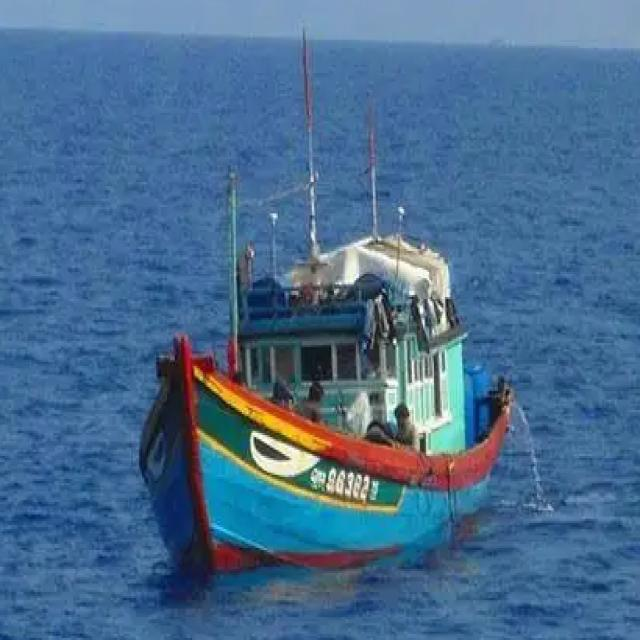fishing boat: (141, 71, 518, 579)
